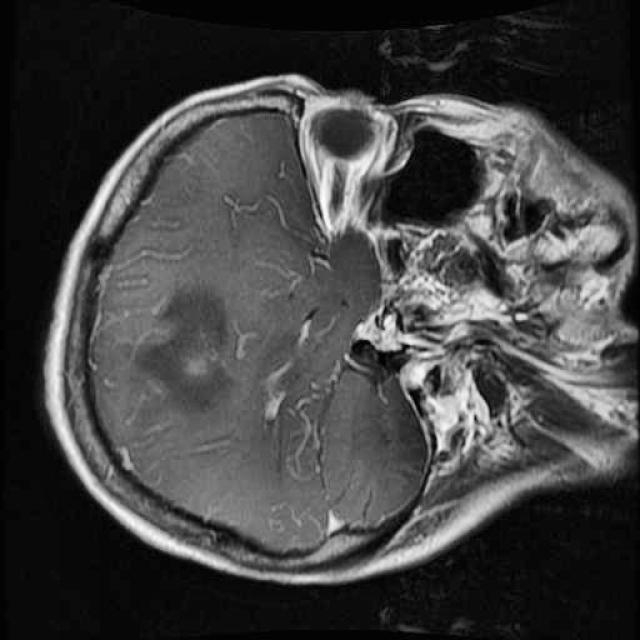Non-Tumor: (114, 270, 255, 452)
